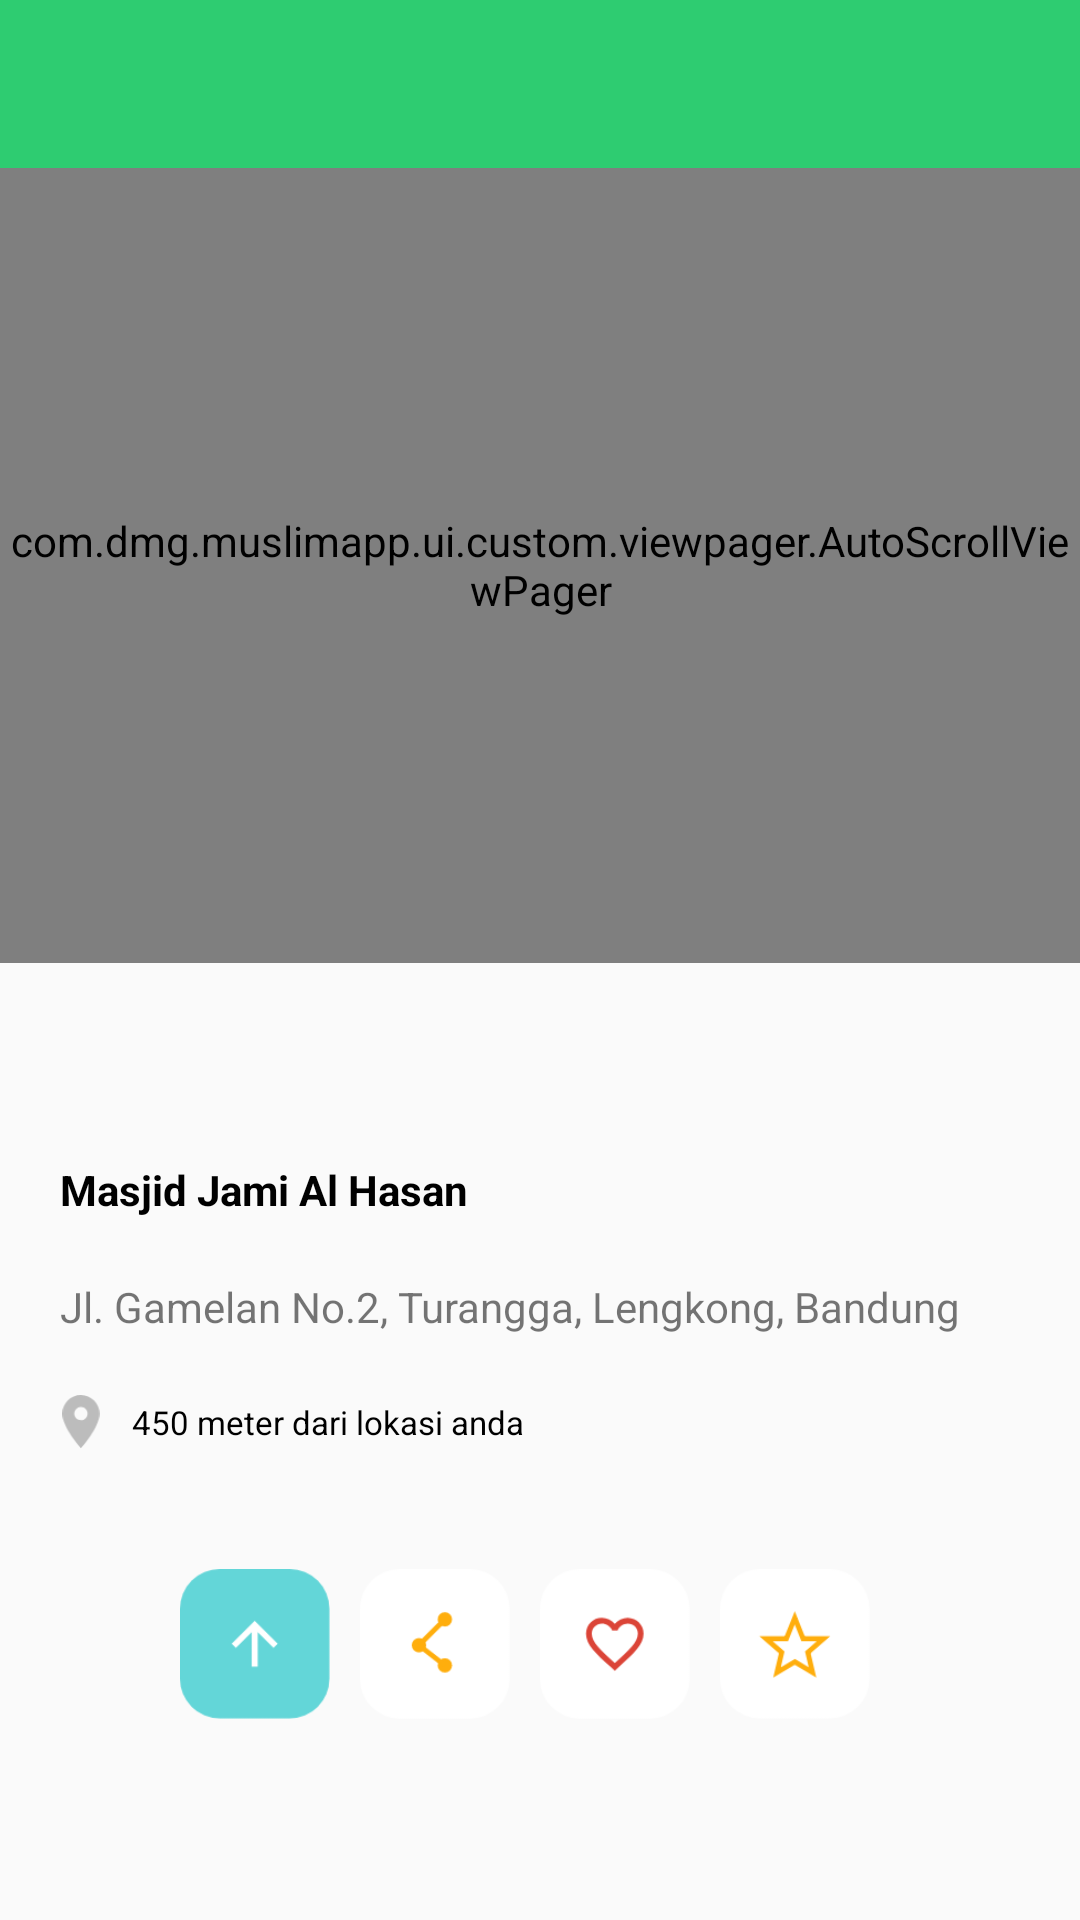

Icons on this 1080×1920 Android screen, each with the point to tap as point (x, y):
arrow up bluesky: point (255, 1644)
favorit border: point (614, 1644)
marker: point (81, 1421)
share: point (432, 1642)
star rate: point (794, 1644)
